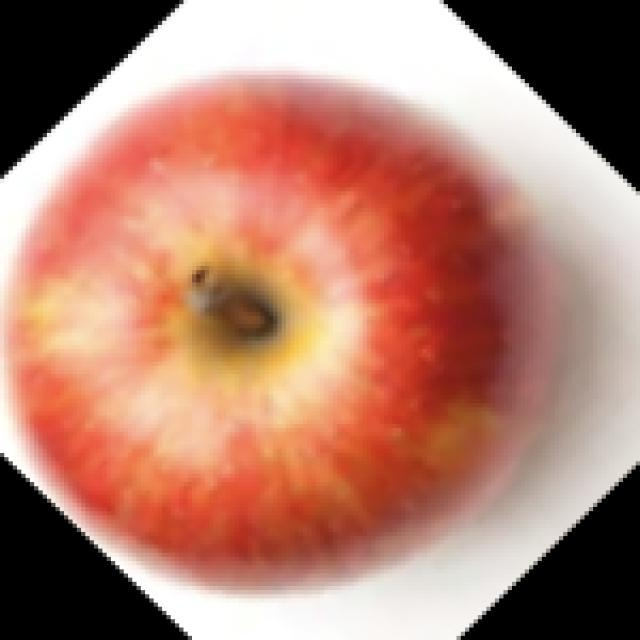Fresh Apple: (5, 64, 563, 598)
